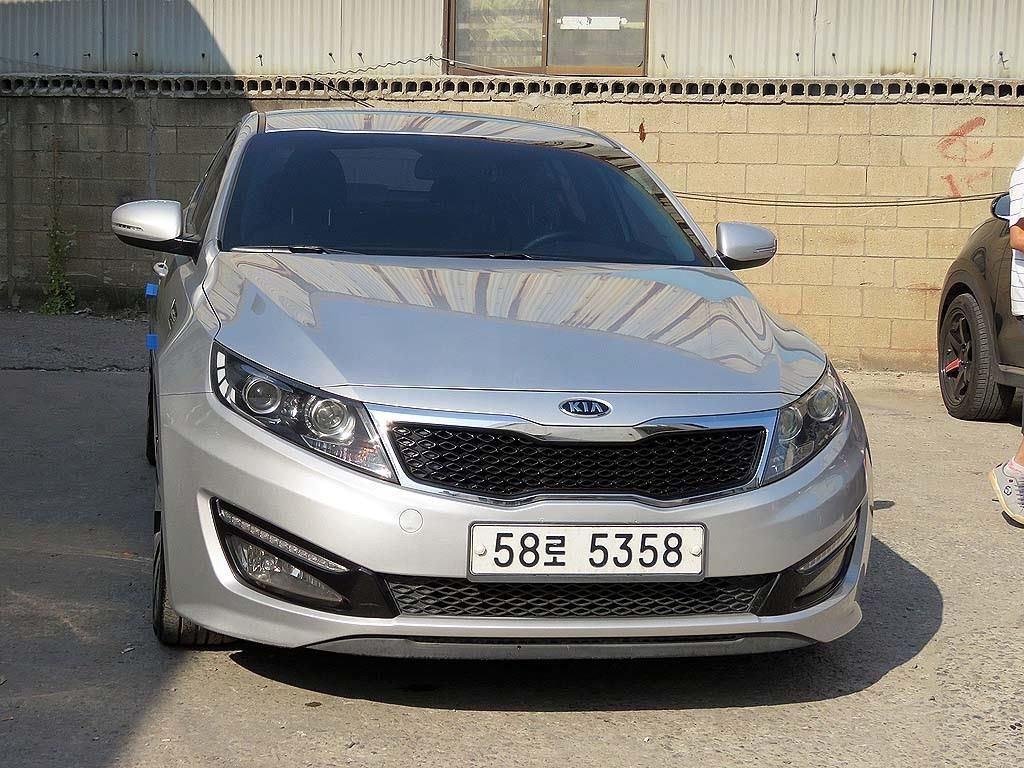plate: (473, 525, 702, 574)
